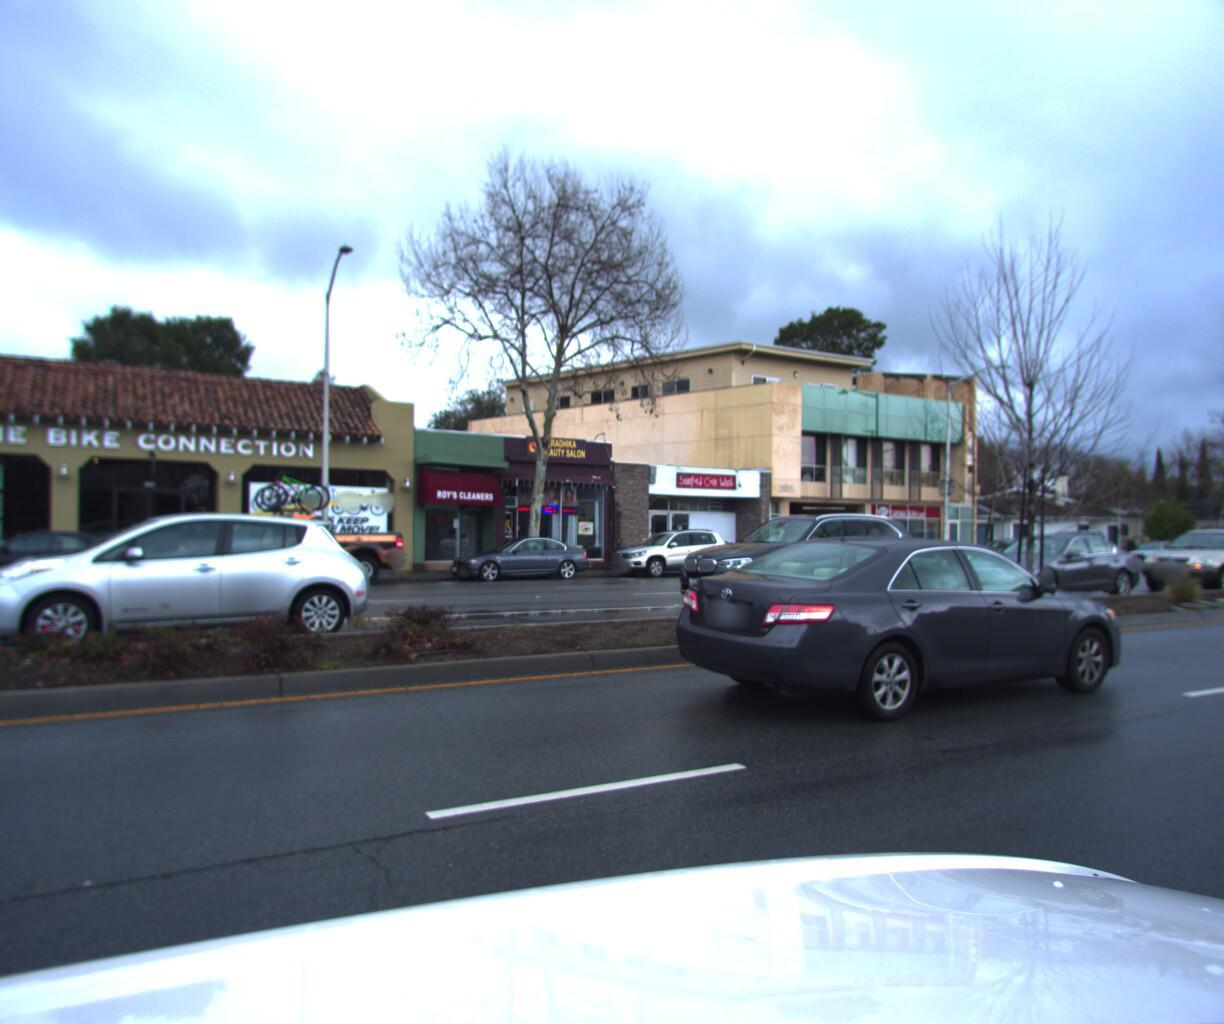car: (663, 527, 1138, 738), (0, 515, 384, 673), (164, 465, 408, 595), (666, 508, 927, 617), (944, 521, 1144, 595), (0, 534, 143, 604), (436, 533, 596, 586), (600, 522, 735, 576), (1123, 511, 1224, 584), (951, 526, 1048, 562), (1108, 526, 1184, 556)
other_vehicle: (1219, 514, 1224, 544)
